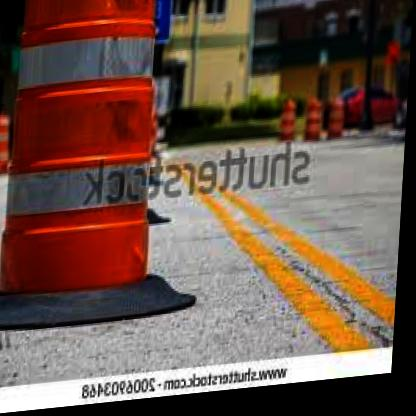obstacle: (0, 0, 167, 301)
